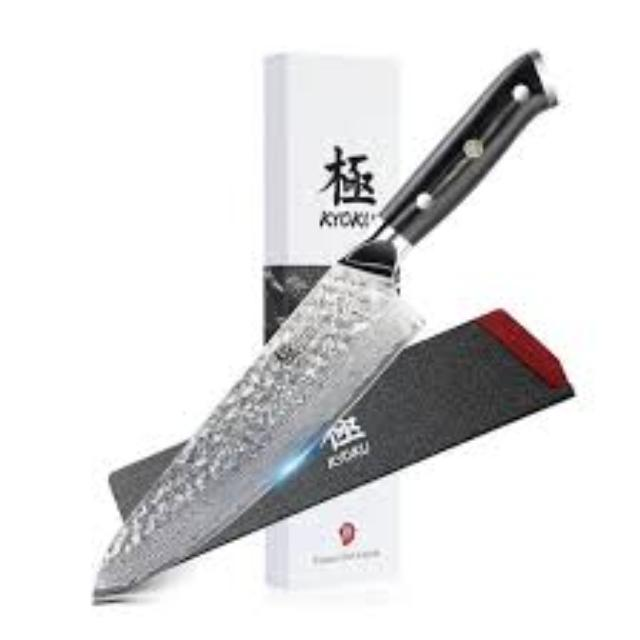Knife: (92, 46, 560, 600)
